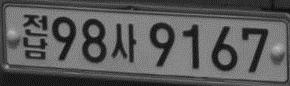1: (180, 22, 207, 70)
6: (210, 24, 238, 71)
7: (241, 26, 268, 73)
8: (80, 18, 107, 64)
9: (148, 21, 175, 68), (51, 16, 76, 60)
사: (110, 22, 136, 63)
전남_V: (21, 13, 48, 60)
